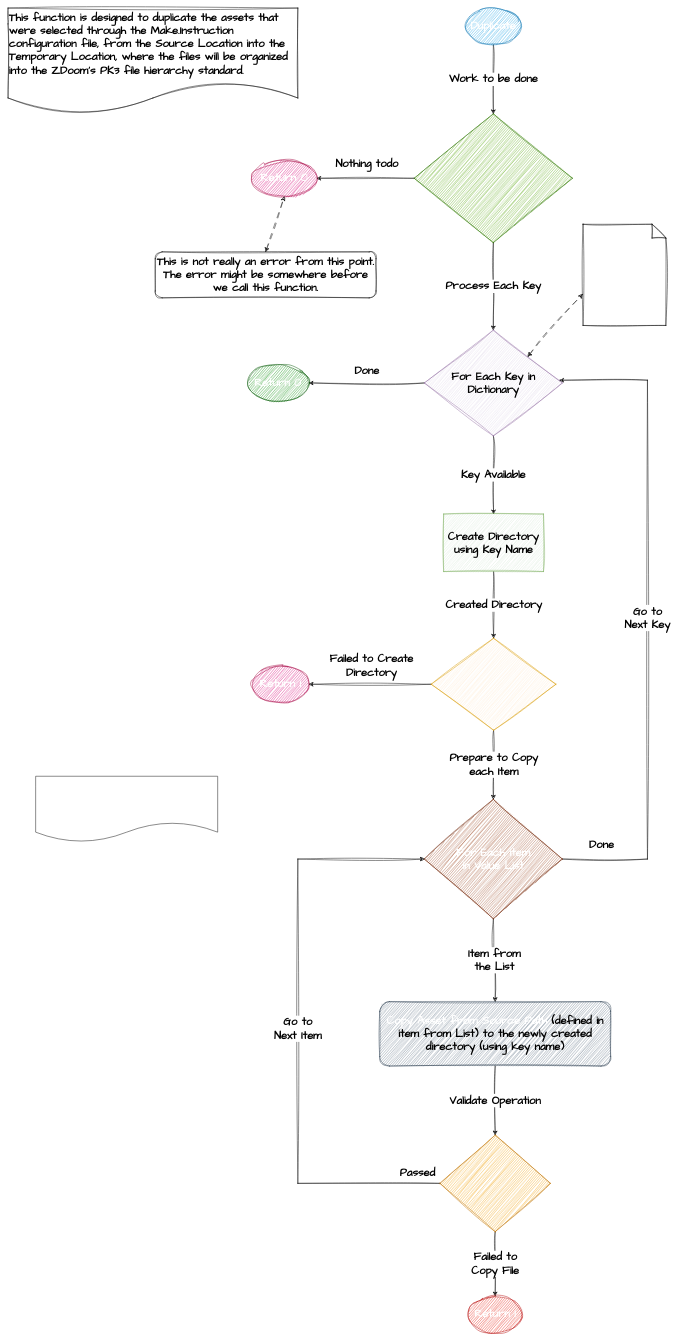
Image size: 678x1341. Some labels were removed from this diagram. The centre of each missing label's shape, as x and y in pixels:
"Reminder: We have a populated dictionary. We have the temporary directory." goes at (126,809).
"Successfully Created Directory" goes at (493,684).
"Successfully duplicated file" goes at (495,1183).
"There's atleast one Key in the dictionary" goes at (493,178).
"We will have to get the Key and Value(s) from this point. Tuple Type" goes at (624,274).
